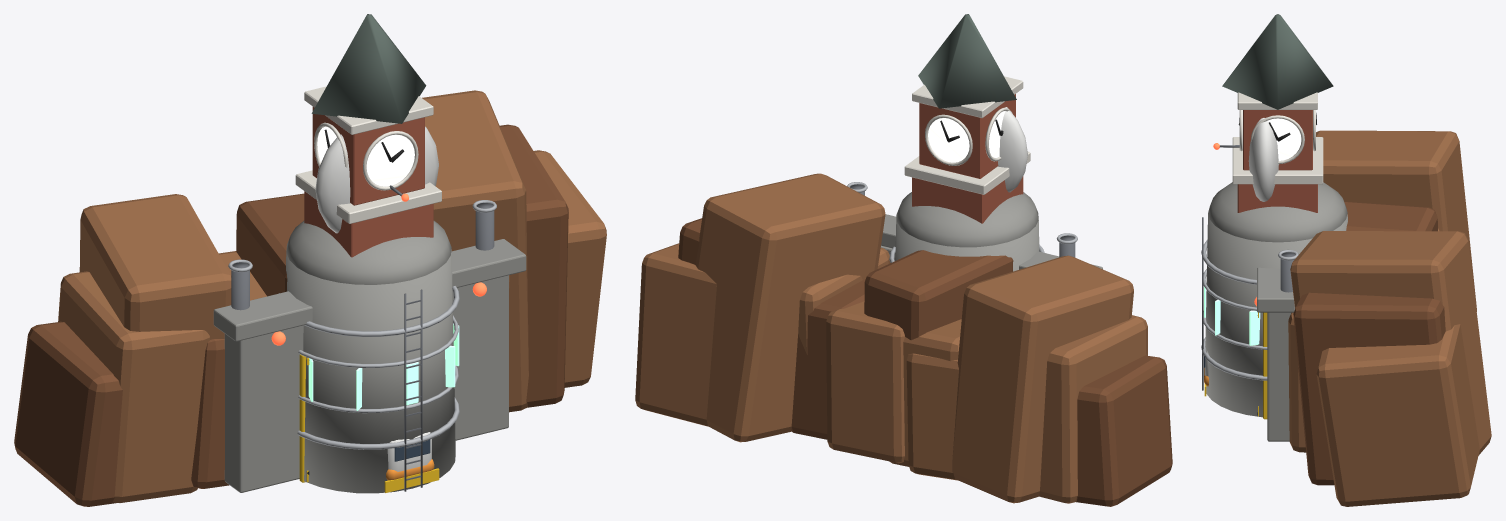
Rendered from lab.glb.
3 views of the same model, side by side, from view 1: azimuth 30°, elevation 25°; view 2: azimuth 150°, elevation 25°; view 3: azimuth 270°, elevation 25° (orthographic). The views are drawn at different scales.
Parts seen in each view (by area): view 1: LB_Bunker, LB_Silo, LB_Clock, LB_Dish, LB_Tram; view 2: LB_Bunker, LB_Clock, LB_Silo, LB_Dish; view 3: LB_Bunker, LB_Silo, LB_Clock, LB_Dish.
Boxes of the visible parts, box(x1,y1,x2,y2) form: LB_Bunker: box(14, 90, 606, 506); LB_Silo: box(279, 221, 459, 493); LB_Clock: box(295, 14, 441, 257); LB_Dish: box(315, 126, 438, 233); LB_Tram: box(386, 432, 434, 480); LB_Bunker: box(635, 173, 1172, 506); LB_Clock: box(904, 14, 1030, 223); LB_Silo: box(889, 192, 1044, 271); LB_Dish: box(998, 107, 1027, 192); LB_Bunker: box(1254, 130, 1491, 506); LB_Silo: box(1201, 182, 1347, 417); LB_Clock: box(1222, 14, 1333, 212); LB_Dish: box(1213, 118, 1278, 201).
Size of the model in its own units: 30.37 by 24.59 by 16.64.
